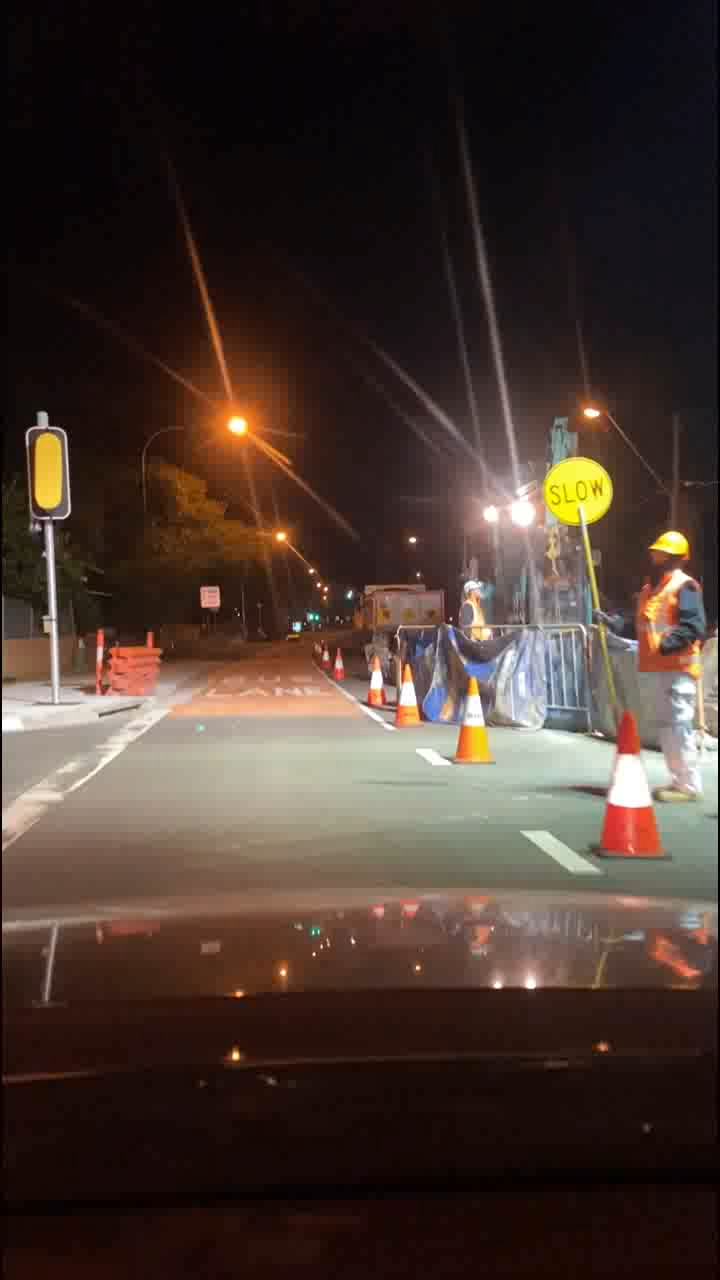person: (531, 436, 710, 805), (452, 575, 495, 636)
road cone: (589, 704, 681, 863), (89, 629, 172, 696), (447, 673, 491, 773), (399, 665, 425, 736), (360, 655, 391, 713), (312, 636, 345, 675)
truck: (341, 573, 452, 638)
